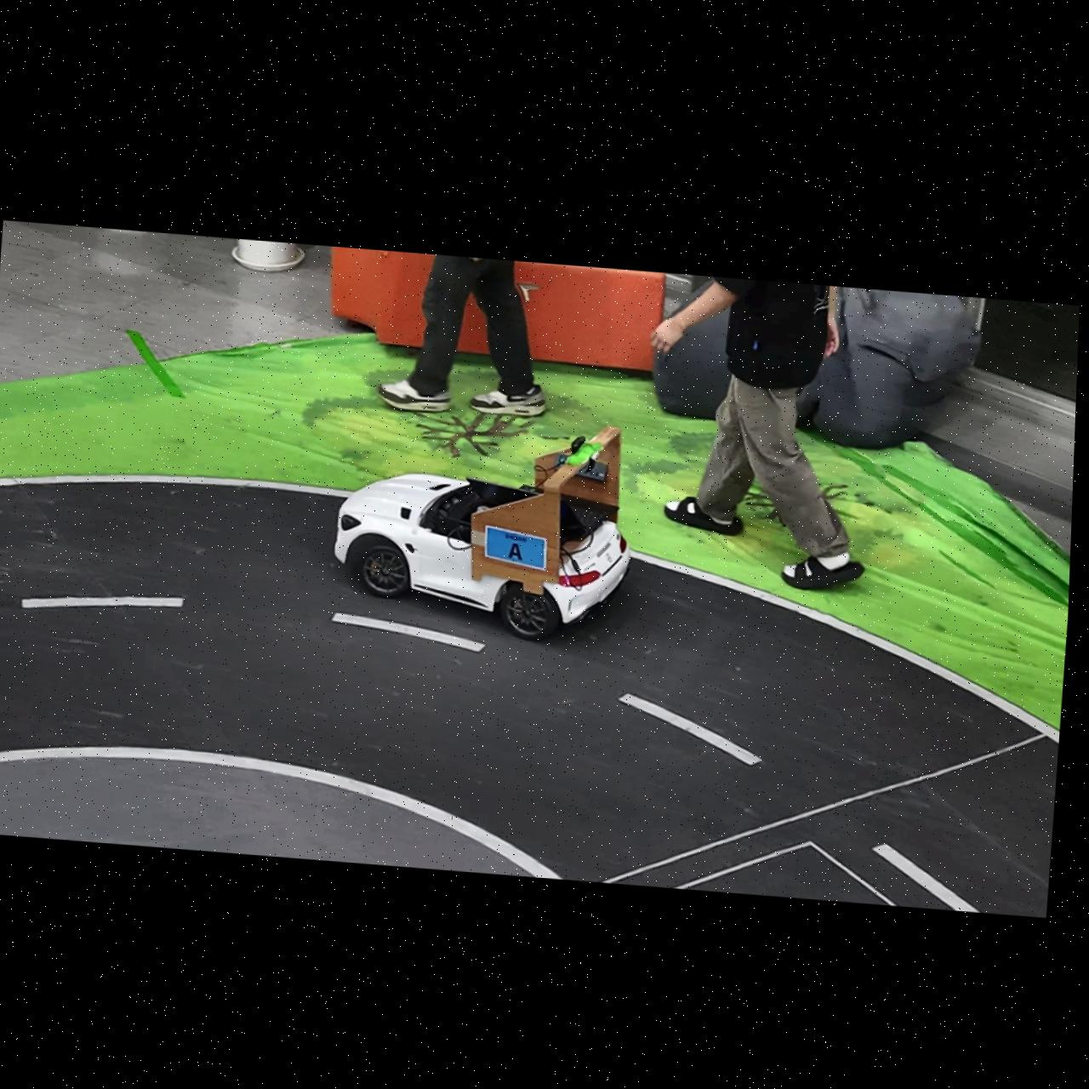broken_line: (617, 693, 761, 765), (871, 843, 980, 912), (331, 612, 485, 652), (21, 596, 184, 608)
